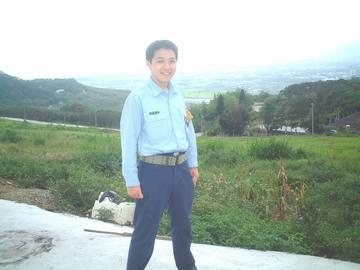person: (120, 39, 201, 270)
